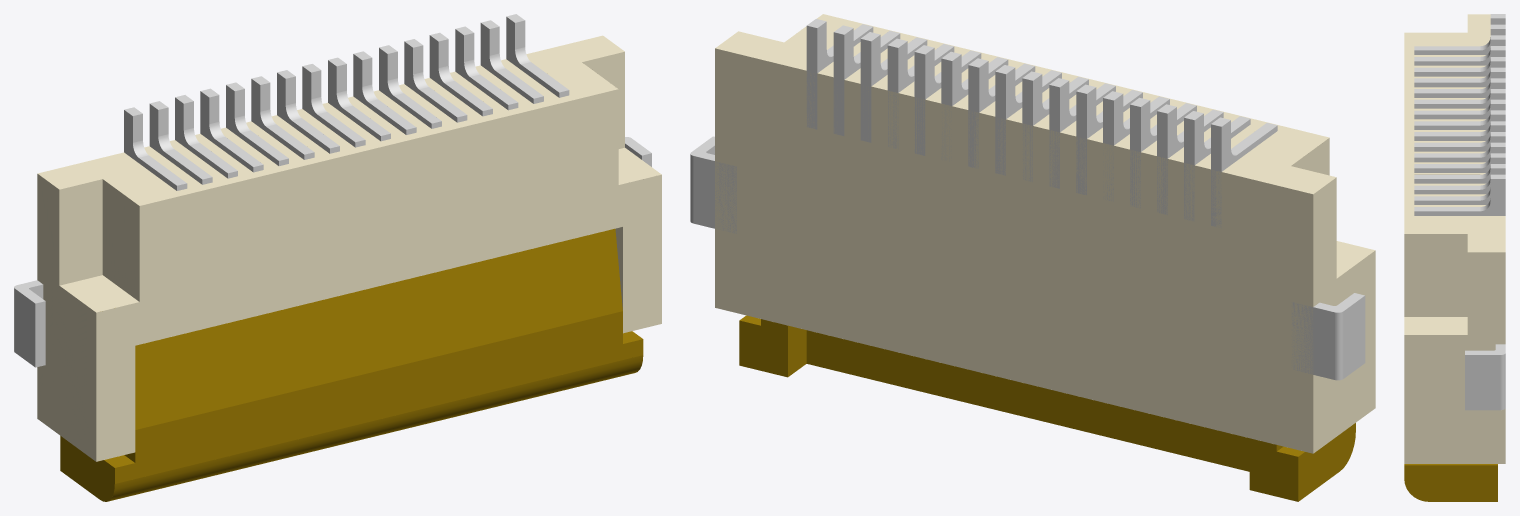
The model's file is Hirose_FH12-16S-0.5SH_1x16-1MP_P0.50mm_Horizontal.glb.
3 renders of one model, left to right at view 1: azimuth 30°, elevation 25°; view 2: azimuth 150°, elevation 25°; view 3: azimuth 270°, elevation 25°, orthographic. The views are drawn at different scales.
Visible parts, largest first — view 1: Shape_IndexedFaceSet.005, Shape_IndexedFaceSet.023, Shape_IndexedFaceSet.016, Shape_IndexedFaceSet, Shape_IndexedFaceSet.008, Shape_IndexedFaceSet.018, Shape_IndexedFaceSet.007, Shape_IndexedFaceSet.006, Shape_IndexedFaceSet.020, Shape_IndexedFaceSet.014, Shape_IndexedFaceSet.237, Shape_IndexedFaceSet.003 (+9 smaller); view 2: Shape_IndexedFaceSet.001, Shape_IndexedFaceSet.030, Shape_IndexedFaceSet, Shape_IndexedFaceSet.008, Shape_IndexedFaceSet.235, Shape_IndexedFaceSet.244, Shape_IndexedFaceSet.027, Shape_IndexedFaceSet.026, Shape_IndexedFaceSet.020, Shape_IndexedFaceSet.237, Shape_IndexedFaceSet.200, Shape_IndexedFaceSet.206 (+16 smaller); view 3: Shape_IndexedFaceSet.002, Shape_IndexedFaceSet, Shape_IndexedFaceSet.004, Shape_IndexedFaceSet.017, Shape_IndexedFaceSet.228, Shape_IndexedFaceSet.010, Shape_IndexedFaceSet.098, Shape_IndexedFaceSet.050, Shape_IndexedFaceSet.078, Shape_IndexedFaceSet.062, Shape_IndexedFaceSet.074, Shape_IndexedFaceSet.090 (+29 smaller).
Boxes of the visible parts, <box> form: Shape_IndexedFaceSet.005: <box>96,89,661,461</box>; Shape_IndexedFaceSet.023: <box>135,228,622,429</box>; Shape_IndexedFaceSet.016: <box>115,311,643,483</box>; Shape_IndexedFaceSet: <box>37,35,624,205</box>; Shape_IndexedFaceSet.008: <box>37,174,96,461</box>; Shape_IndexedFaceSet.018: <box>107,355,643,501</box>; Shape_IndexedFaceSet.007: <box>59,179,102,285</box>; Shape_IndexedFaceSet.006: <box>102,179,139,301</box>; Shape_IndexedFaceSet.020: <box>60,436,114,501</box>; Shape_IndexedFaceSet.014: <box>60,275,138,312</box>; Shape_IndexedFaceSet.237: <box>15,289,35,366</box>; Shape_IndexedFaceSet.003: <box>582,51,624,148</box>; Shape_IndexedFaceSet.001: <box>715,48,1313,453</box>; Shape_IndexedFaceSet.030: <box>806,330,1249,471</box>; Shape_IndexedFaceSet: <box>715,14,1336,194</box>; Shape_IndexedFaceSet.008: <box>1313,177,1375,453</box>; Shape_IndexedFaceSet.235: <box>693,156,736,233</box>; Shape_IndexedFaceSet.244: <box>1291,302,1334,379</box>; Shape_IndexedFaceSet.027: <box>1249,438,1298,501</box>; Shape_IndexedFaceSet.026: <box>739,319,787,377</box>; Shape_IndexedFaceSet.020: <box>1298,423,1355,501</box>; Shape_IndexedFaceSet.237: <box>1343,296,1365,378</box>; Shape_IndexedFaceSet.200: <box>860,39,871,142</box>; Shape_IndexedFaceSet.206: <box>833,32,844,135</box>; Shape_IndexedFaceSet.002: <box>1404,252,1505,463</box>; Shape_IndexedFaceSet: <box>1404,14,1505,252</box>; Shape_IndexedFaceSet.004: <box>1404,234,1467,316</box>; Shape_IndexedFaceSet.017: <box>1404,465,1497,501</box>; Shape_IndexedFaceSet.228: <box>1465,355,1500,410</box>; Shape_IndexedFaceSet.010: <box>1404,317,1467,334</box>; Shape_IndexedFaceSet.098: <box>1414,179,1505,215</box>; Shape_IndexedFaceSet.050: <box>1414,50,1505,87</box>; Shape_IndexedFaceSet.078: <box>1414,125,1505,162</box>; Shape_IndexedFaceSet.062: <box>1414,82,1505,119</box>; Shape_IndexedFaceSet.074: <box>1414,114,1505,151</box>; Shape_IndexedFaceSet.090: <box>1414,157,1505,194</box>.
Bounding box in the file's own units: 4.76 × 2.52 × 0.7875.
